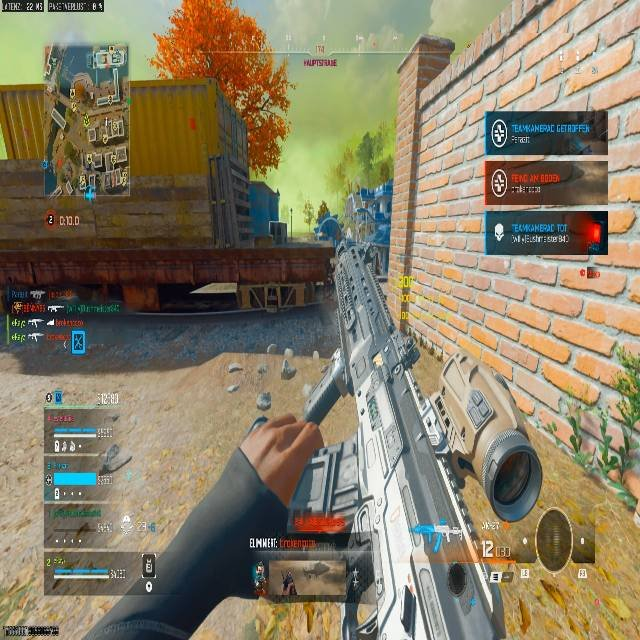player: (314, 207, 347, 243), (253, 567, 266, 598), (281, 571, 296, 596)
